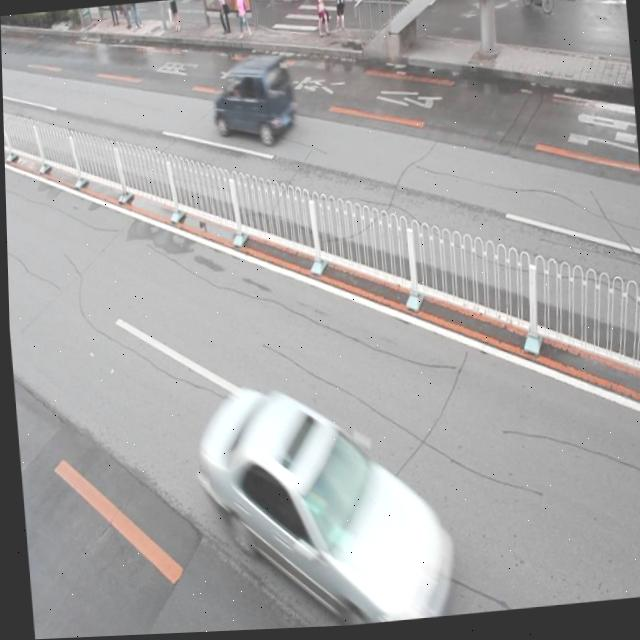car: (191, 370, 454, 634), (211, 54, 296, 148)
